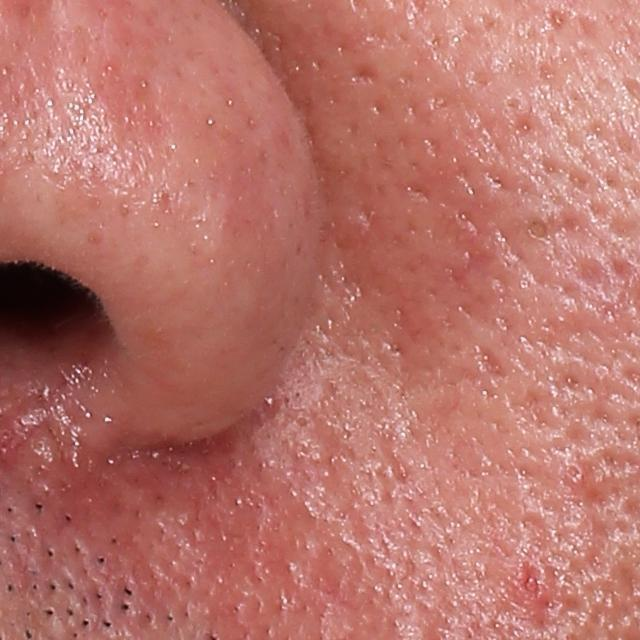atrophic_scar: (498, 387, 567, 445), (472, 338, 511, 388), (346, 62, 380, 83)
comedo: (520, 214, 551, 248)
